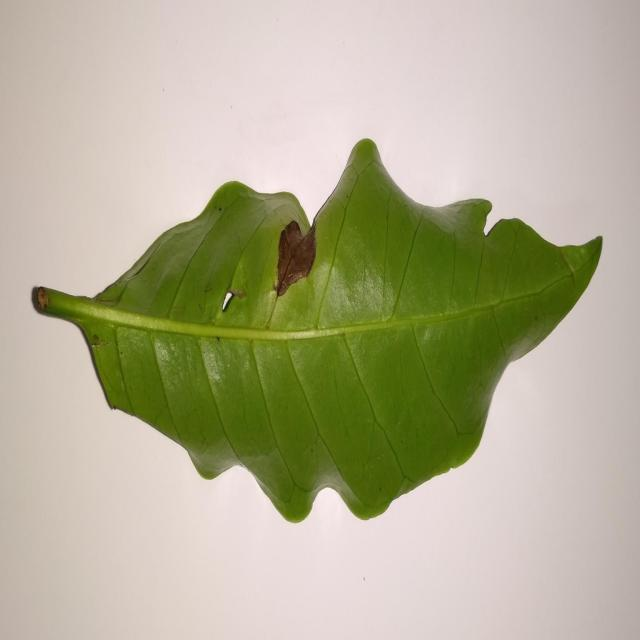Enfermedad-Antracnosis: (29, 139, 604, 527)
